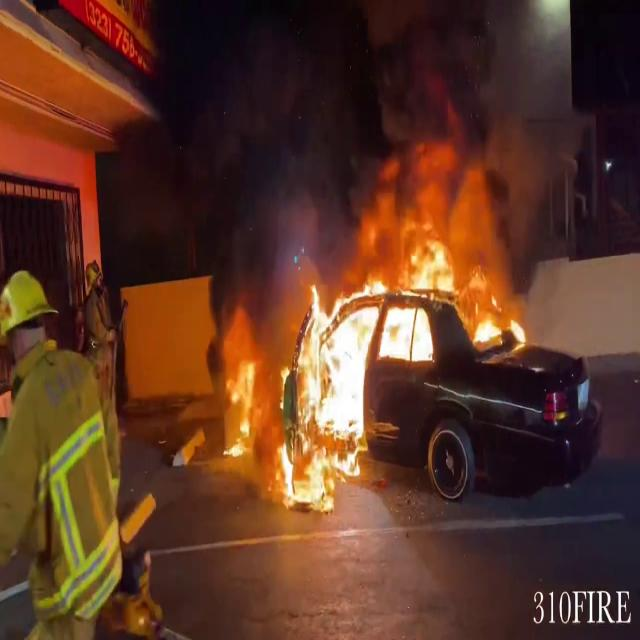Fire: (250, 157, 536, 490)
Smoke: (274, 0, 572, 272)
